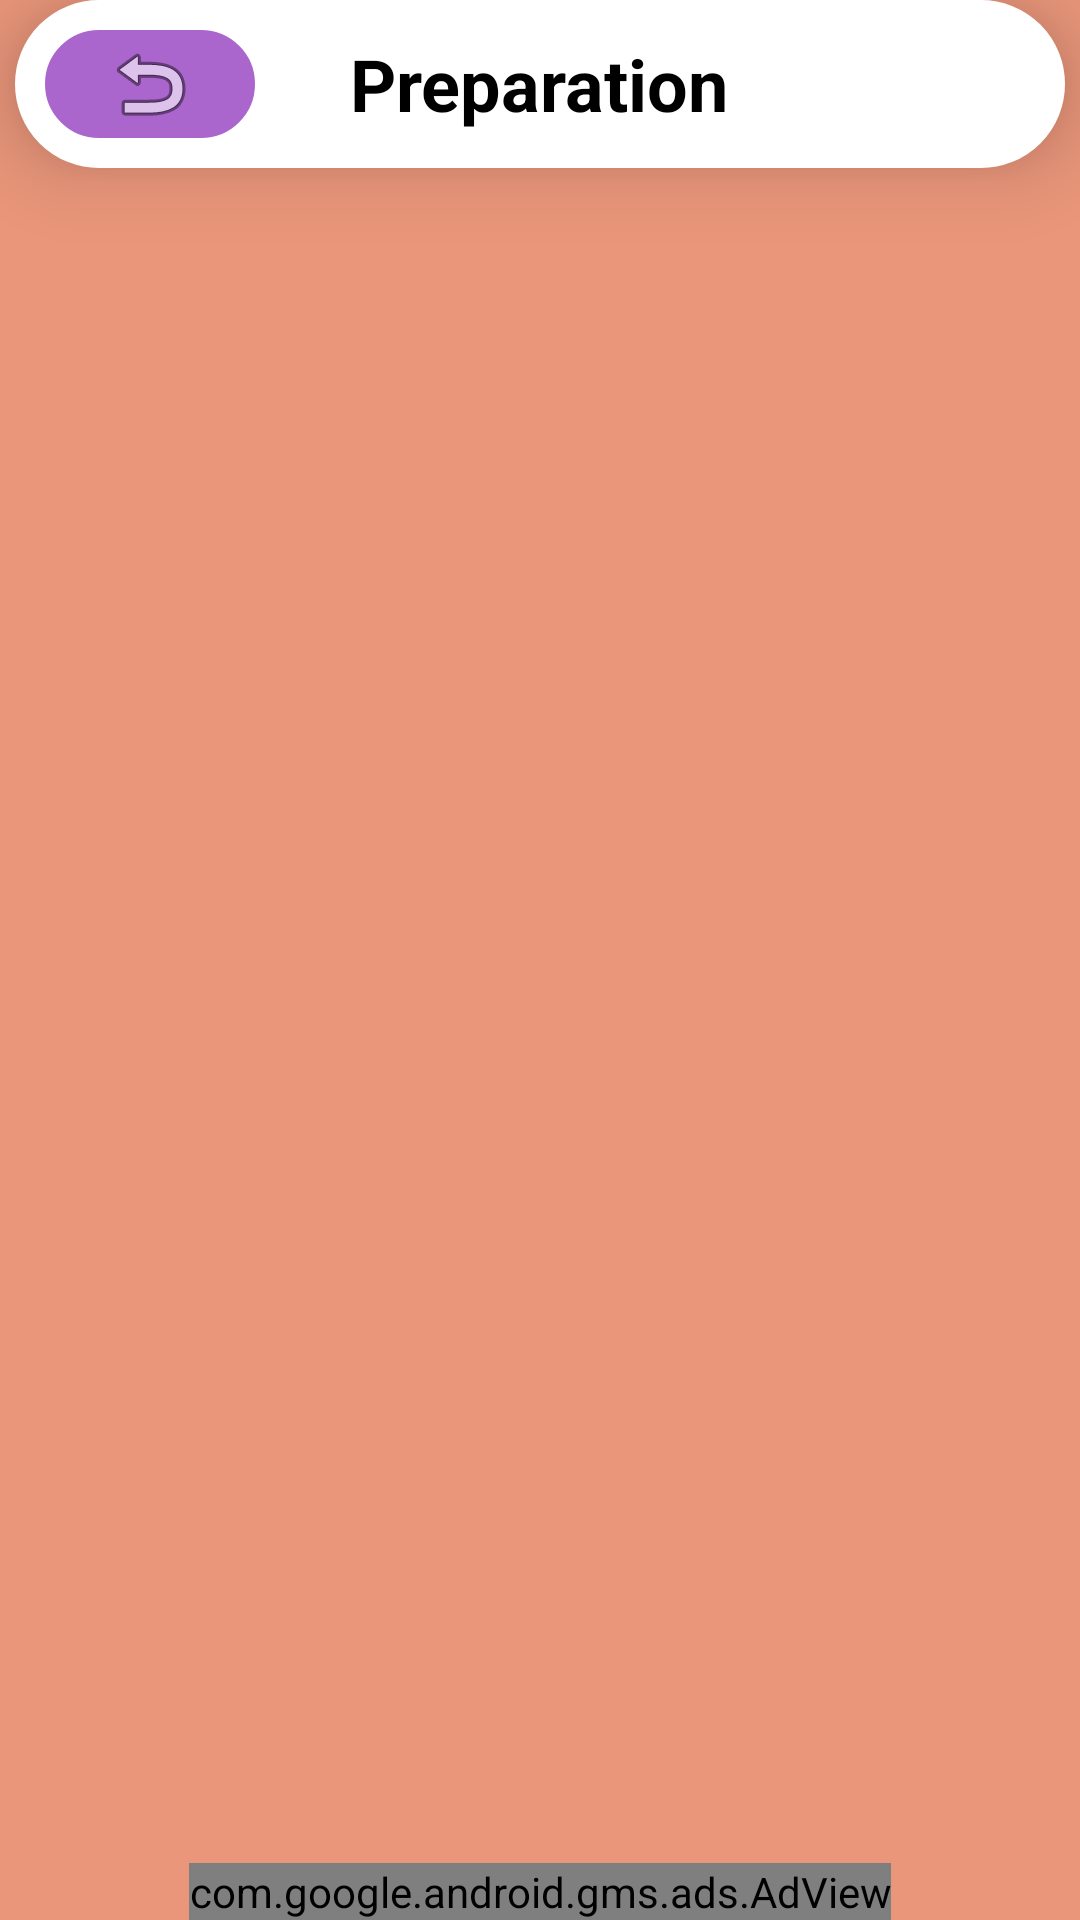

Screen size 1080px x 1920px. Icon name, then its box in pixels as detection(x1, y1, x2, y2):
revert: detection(45, 30, 255, 138)
